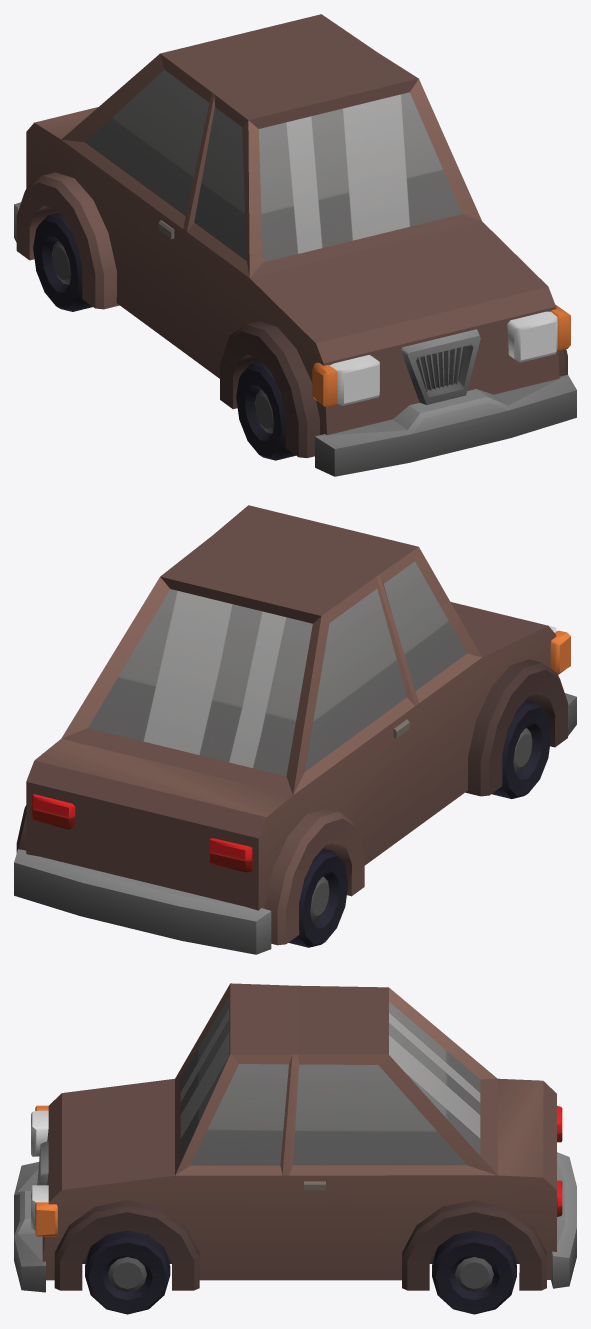
Rendered from Car_4_19.glb.
The picture shows the model from 3 angles, top to bottom: view 1: azimuth 30°, elevation 25°; view 2: azimuth 150°, elevation 25°; view 3: azimuth 270°, elevation 25°; orthographic projection. The views are drawn at different scales.
Parts seen in each view (by area): view 1: Car_4_19, BWhel_FR, BWhel_BR; view 2: Car_4_19, BWhel_BR, BWhel_FR; view 3: Car_4_19, BWhel_FL, BWhel_BL.
Boxes of the visible parts, left/top/right/bottom form: Car_4_19: left=14, top=14, right=576, bottom=476; BWhel_FR: left=236, top=361, right=295, bottom=460; BWhel_BR: left=33, top=212, right=92, bottom=311; Car_4_19: left=14, top=505, right=576, bottom=954; BWhel_BR: left=288, top=848, right=348, bottom=947; BWhel_FR: left=491, top=700, right=551, bottom=798; Car_4_19: left=14, top=983, right=576, bottom=1292; BWhel_FL: left=85, top=1230, right=170, bottom=1314; BWhel_BL: left=432, top=1230, right=516, bottom=1314.
Bounding box in the file's own units: 1.09 × 1.09 × 2.3.
Materials: 6 (6 with a texture image).
